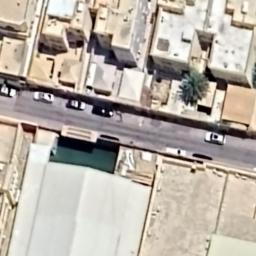sedan: (204, 130, 227, 146), (90, 104, 114, 118), (32, 90, 56, 103), (66, 98, 88, 111)
unknown: (0, 84, 18, 98)
